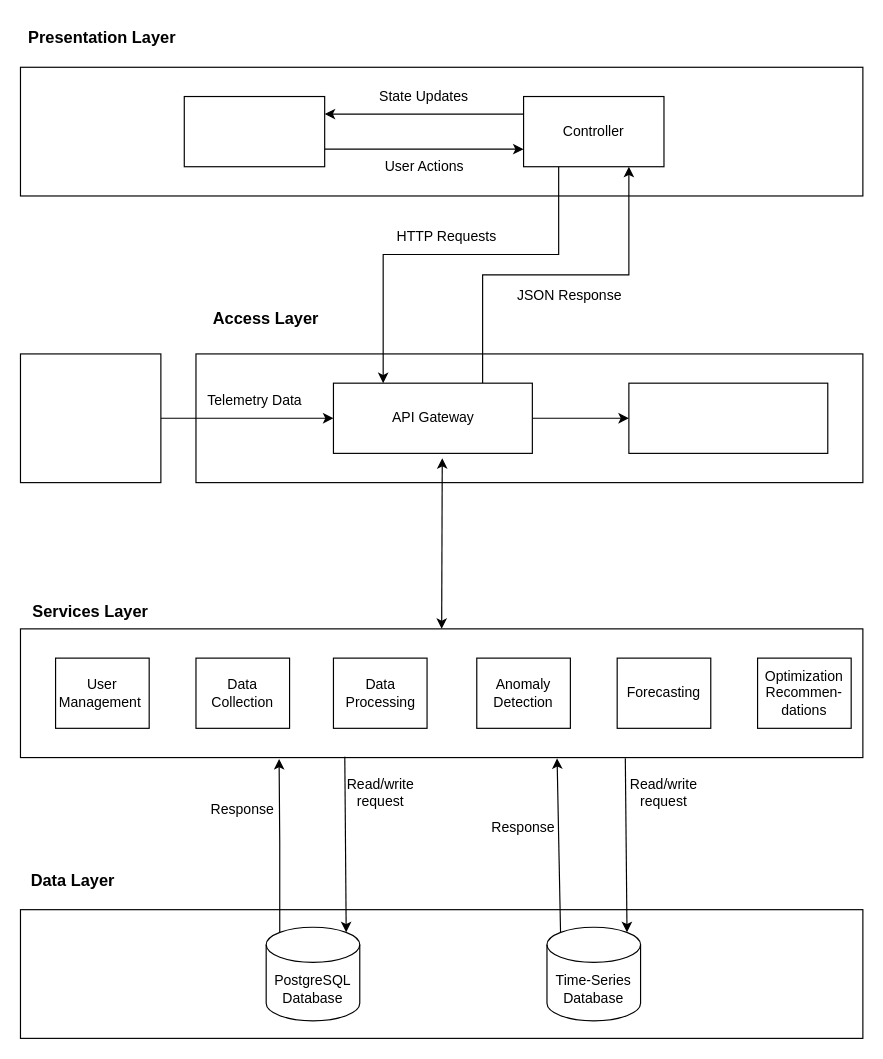
Image size: 883x1059. Some labels were removed from this diagram. Each missing label, with the centre of its shape:
"Cache" goes at point (728, 417).
"IoT Devices" goes at point (90, 418).
"View" goes at point (254, 131).
